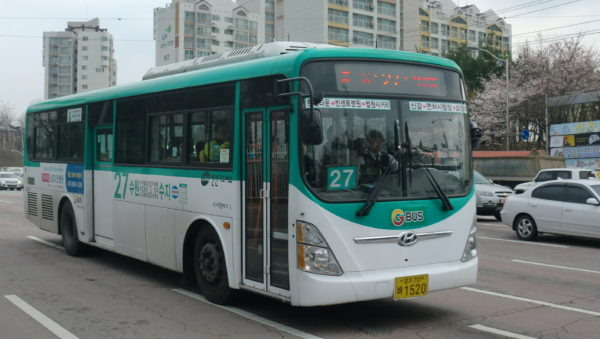bnum: (327, 167, 357, 189)
